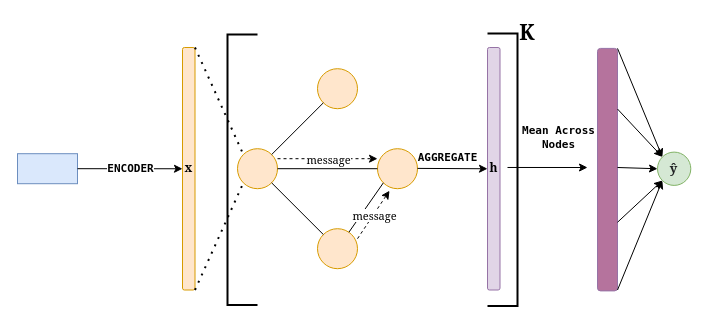
This 709x324 diagram has some shape labels left out. Each missing label, with the centre of its shape:
"Cookie" goes at [47,168].
"z G" goes at [607,169].
